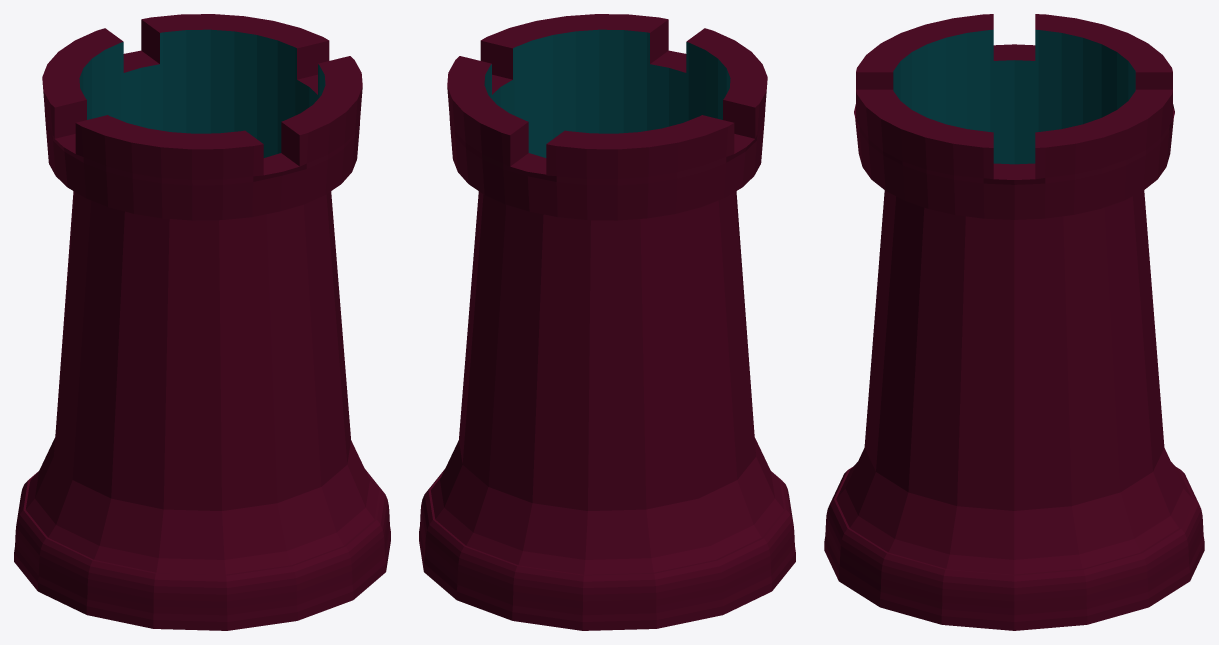
Rendered from Enemy team Rook.fbx.
The picture shows the model from 3 angles, left to right: view 1: azimuth 30°, elevation 25°; view 2: azimuth 150°, elevation 25°; view 3: azimuth 270°, elevation 25°; orthographic projection.
Parts seen in each view (by area): view 1: Cylinder; view 2: Cylinder; view 3: Cylinder.
Part boxes in pixels (left/top/right/bottom): Cylinder: left=14, top=14, right=390, bottom=630; Cylinder: left=419, top=14, right=795, bottom=630; Cylinder: left=824, top=14, right=1204, bottom=630.
Size of the model in its own units: 387 by 387 by 528.
